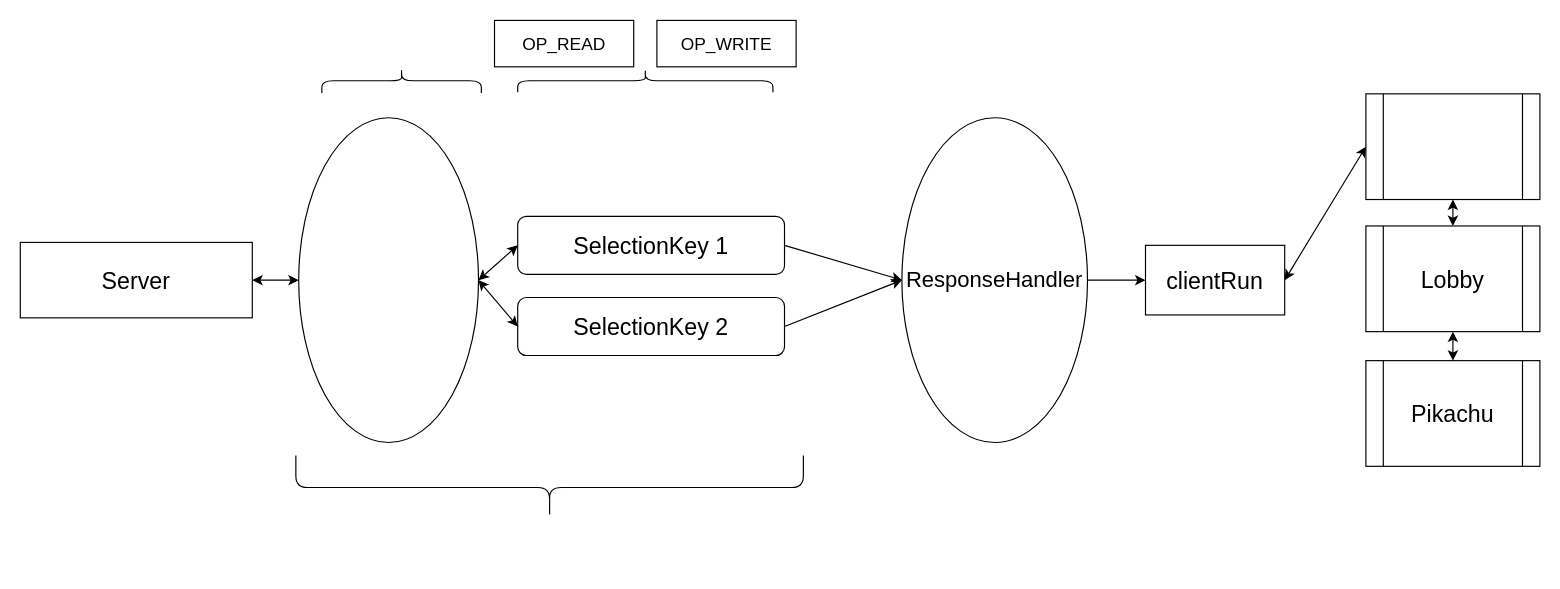
Image size: 1560x589. Some labels were removed from this diagram. Here are the shapes that lost their labels. From the top down, the centre of each, then its label:
At pixel 401 80: "Connect 2 Port".
At pixel 1452 146: "Login".
At pixel 388 280: "Cập nhật các ChangeRequest, ChangeData và Select".
At pixel 549 486: "ConnectThread".
